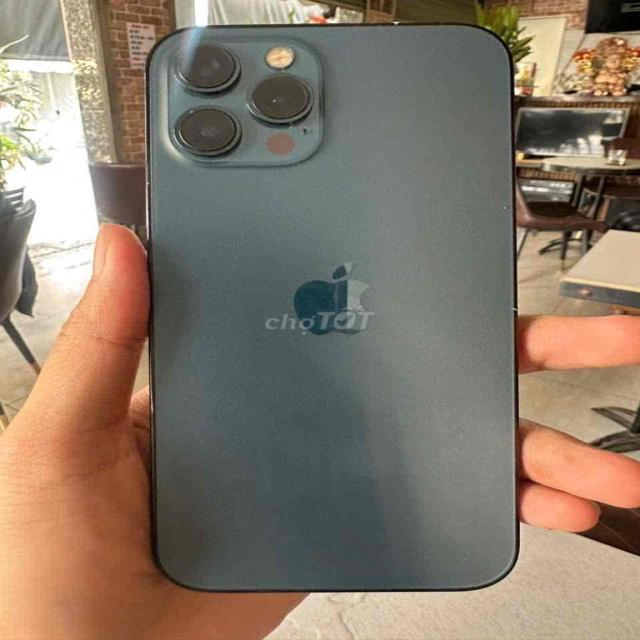gen_12_13: (147, 23, 524, 596)
